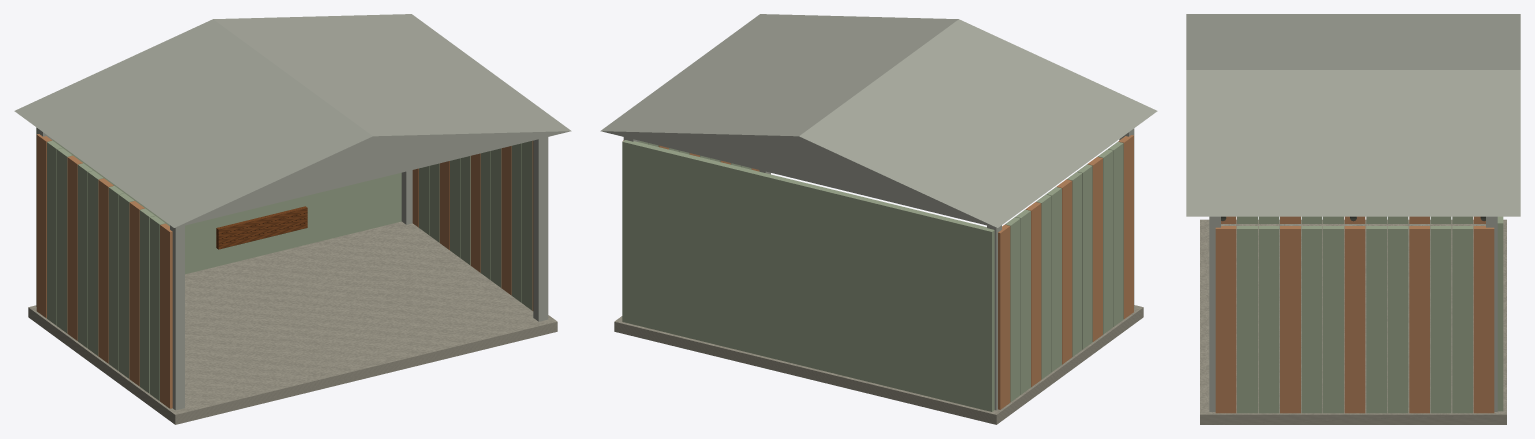
Rendered from reclamation-yard-open-salvage-workshop__215.glb.
The picture shows the model from 3 angles, left to right: view 1: azimuth 30°, elevation 25°; view 2: azimuth 150°, elevation 25°; view 3: azimuth 270°, elevation 25°; orthographic projection. The views are drawn at different scales.
Visible parts, largest first — view 1: metal, stone, shell, accent, wood; view 2: shell, metal, accent, stone; view 3: metal, shell, accent, stone.
Part boxes in pixels (x1,y1,x2,y2): metal: (14,14,571,410); stone: (28,221,557,424); shell: (36,127,532,401); accent: (36,134,533,408); wood: (216,206,307,249); shell: (622,140,1123,411); metal: (600,14,1157,410); accent: (622,135,1133,409); stone: (614,305,1143,424); metal: (1186,14,1520,411); shell: (1237,216,1503,413); accent: (1215,216,1494,413); stone: (1200,219,1506,424).
Bounding box in the file's own units: 6.24 × 3.7 × 4.35.
6 materials, 2 textured.
